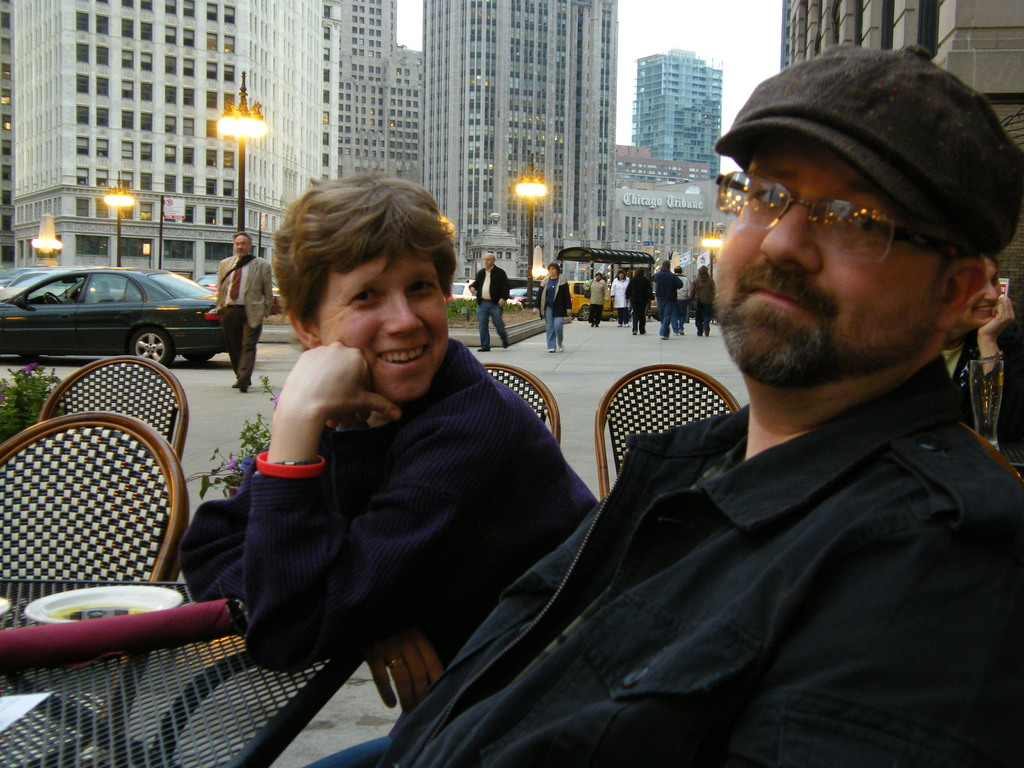Car: (5, 255, 256, 366)
